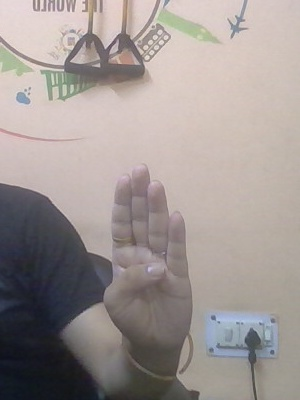B: (101, 160, 198, 366)
